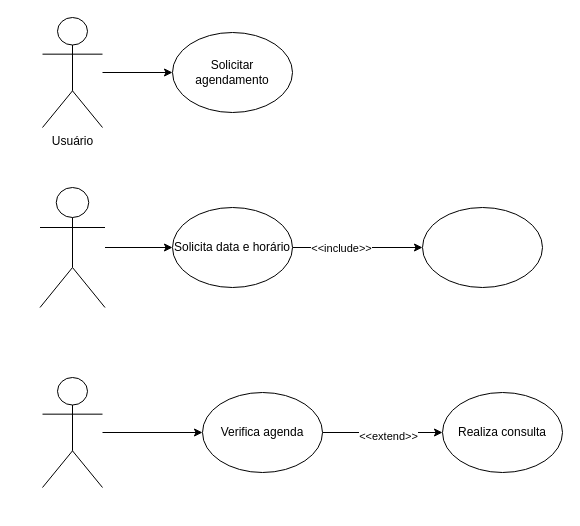
Some shapes in this 580 by 526 pixel diagram are drawn without their labels. Here are the shapes that lost their labels. From the top down, the box of each, then its label:
(39, 186, 105, 308): Google calendar
(422, 206, 542, 288): Agenda data e horário selecionados
(42, 376, 102, 488): Prestador de serviço
